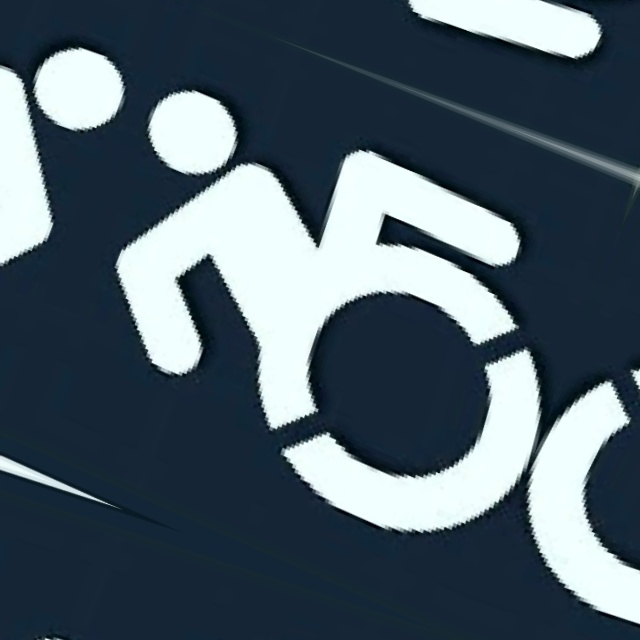ISA: (30, 55, 620, 579), (486, 230, 640, 640), (0, 0, 150, 399), (204, 0, 640, 125), (0, 526, 439, 640)
